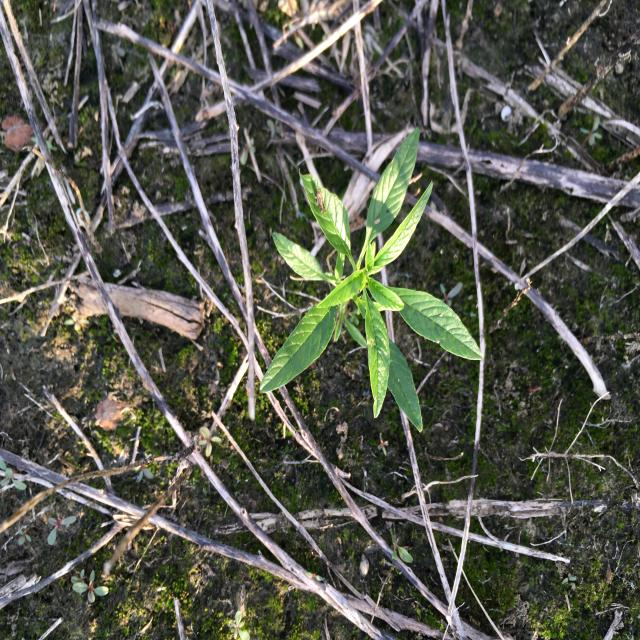Waterhemp: (258, 126, 484, 435)
